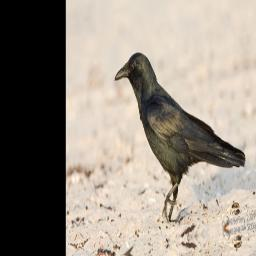Crow: (112, 24, 249, 235)
